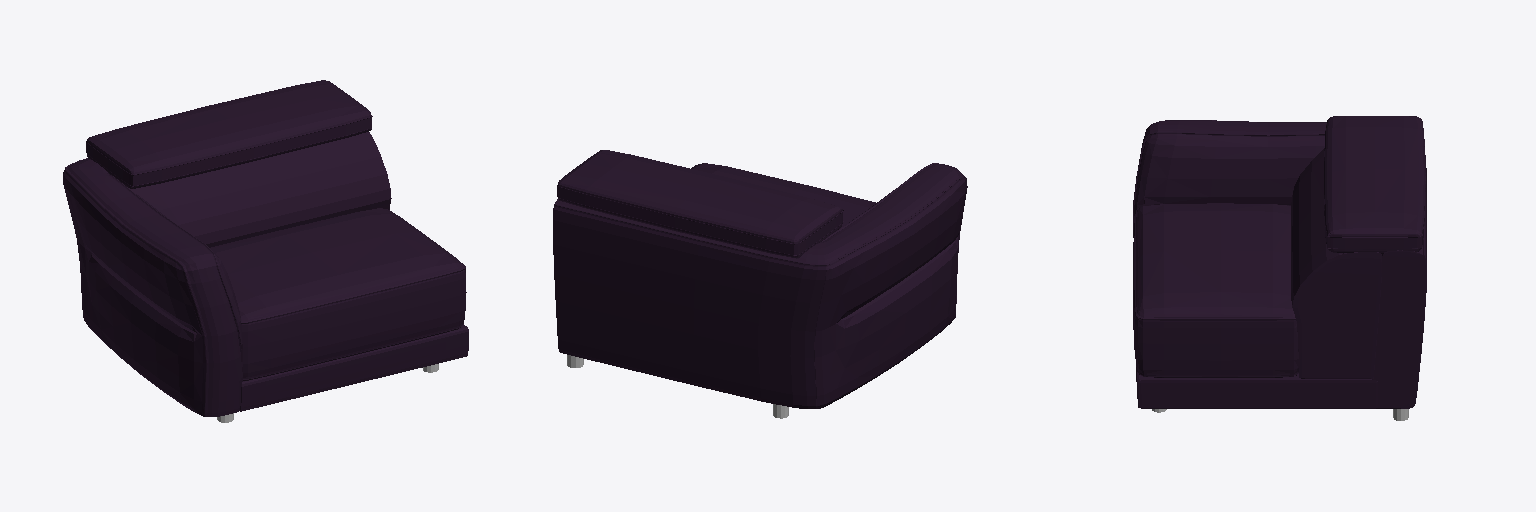
Rendered from couch1.obj.
3 views of the same model, side by side, from view 1: azimuth 30°, elevation 25°; view 2: azimuth 150°, elevation 25°; view 3: azimuth 270°, elevation 25° (orthographic).
Parts seen in each view (by area): view 1: Mesh7 Group7 Component_14_1 Model, Mesh3 Group3 Component_14_1 Model, Mesh2 Group2 Component_14_1 Model, Mesh4 Group4 Component_14_1 Model, Mesh1 Group1 Component_14_1 Model; view 2: Mesh3 Group3 Component_14_1 Model, Mesh2 Group2 Component_14_1 Model, Mesh7 Group7 Component_14_1 Model; view 3: Mesh7 Group7 Component_14_1 Model, Mesh3 Group3 Component_14_1 Model, Mesh2 Group2 Component_14_1 Model, Mesh4 Group4 Component_14_1 Model, Mesh1 Group1 Component_14_1 Model.
Part boxes in pixels (bbox=[...]): Mesh7 Group7 Component_14_1 Model: bbox=[210, 208, 466, 380]; Mesh3 Group3 Component_14_1 Model: bbox=[63, 158, 242, 416]; Mesh2 Group2 Component_14_1 Model: bbox=[86, 80, 372, 188]; Mesh4 Group4 Component_14_1 Model: bbox=[127, 132, 391, 247]; Mesh1 Group1 Component_14_1 Model: bbox=[240, 325, 468, 411]; Mesh3 Group3 Component_14_1 Model: bbox=[553, 163, 967, 408]; Mesh2 Group2 Component_14_1 Model: bbox=[557, 150, 843, 258]; Mesh7 Group7 Component_14_1 Model: bbox=[691, 163, 875, 227]; Mesh7 Group7 Component_14_1 Model: bbox=[1133, 203, 1298, 377]; Mesh3 Group3 Component_14_1 Model: bbox=[1133, 120, 1426, 408]; Mesh2 Group2 Component_14_1 Model: bbox=[1324, 116, 1425, 253]; Mesh4 Group4 Component_14_1 Model: bbox=[1291, 149, 1381, 378]; Mesh1 Group1 Component_14_1 Model: bbox=[1136, 367, 1377, 408].
Size of the model in its own units: 18.43 by 12.05 by 16.57.